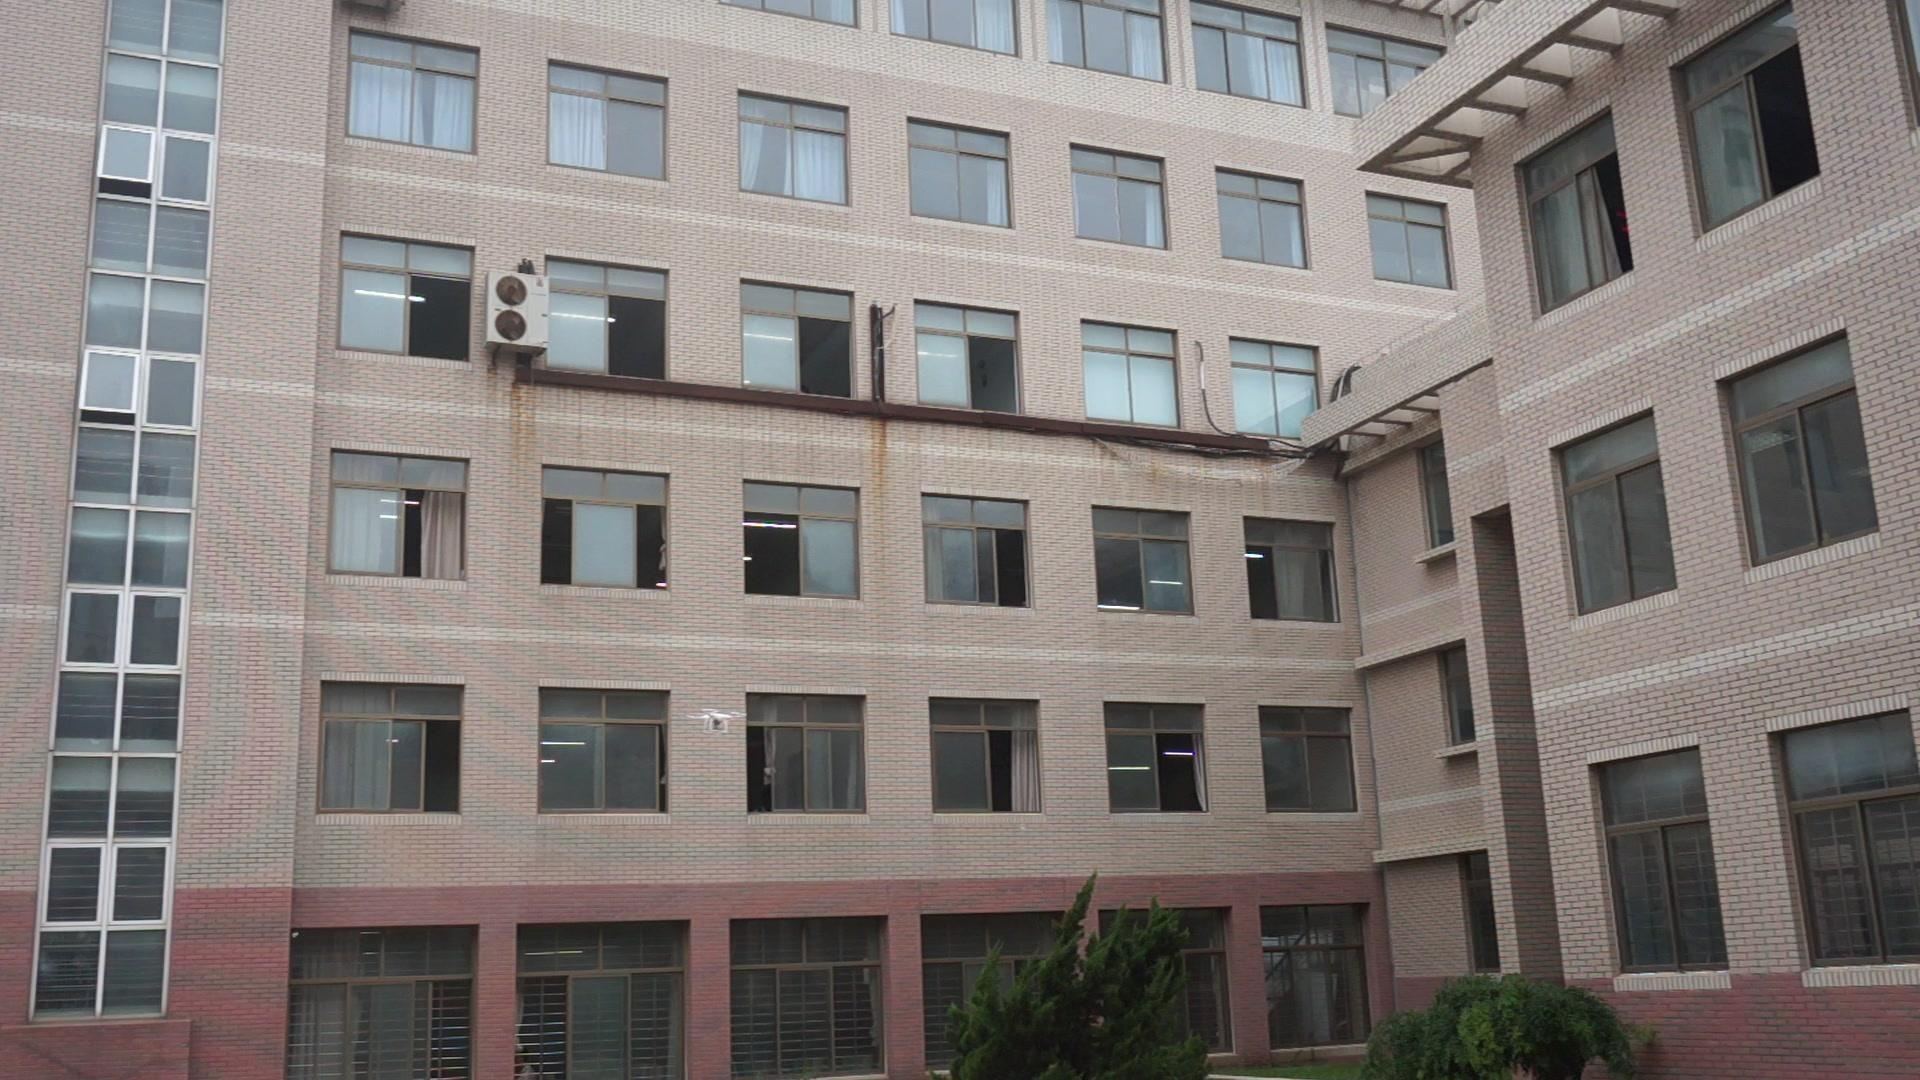UAV: (688, 709, 748, 735)
